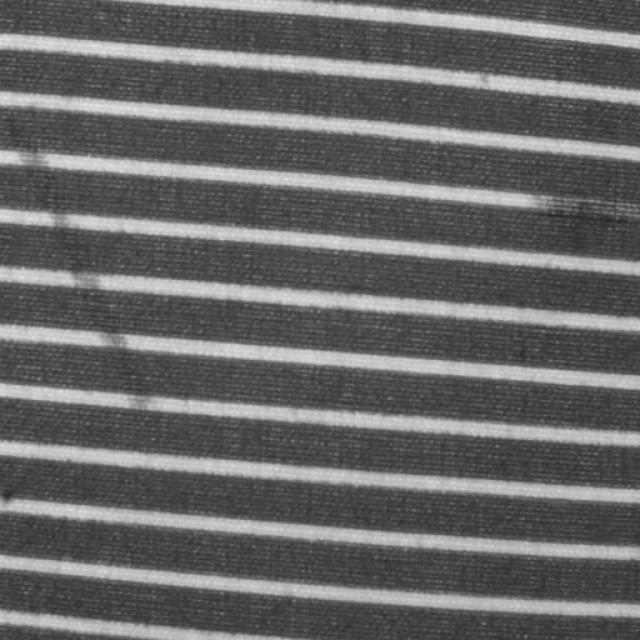Stain-Defect: (2, 114, 171, 427), (534, 180, 639, 279)
